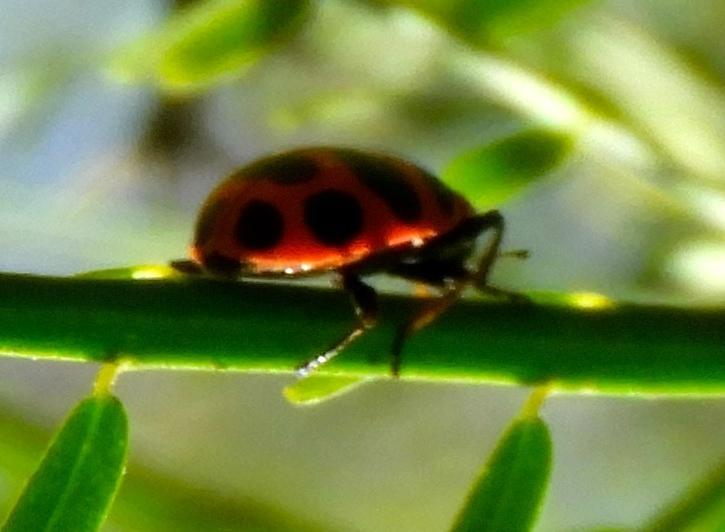ladybug: (185, 145, 535, 384)
